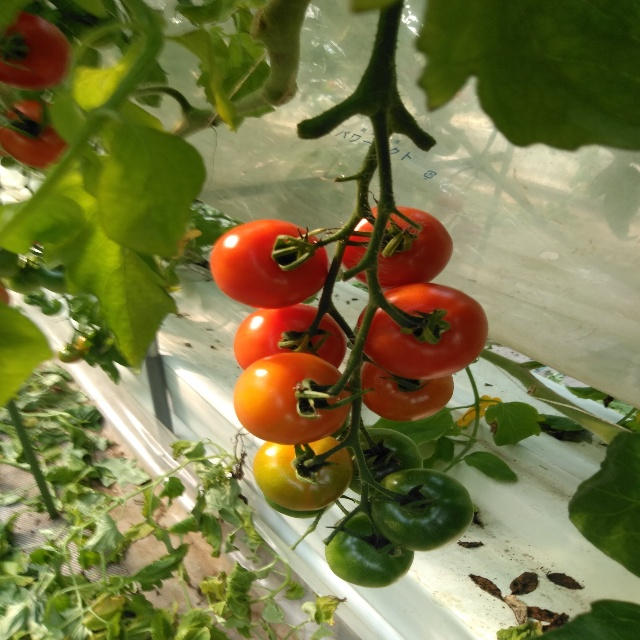l_fully_ripened: (357, 283, 490, 380), (210, 220, 331, 310), (341, 206, 454, 291), (233, 302, 347, 371), (0, 11, 70, 91), (0, 100, 70, 171)
l_green: (367, 468, 474, 551), (325, 509, 414, 588), (340, 428, 424, 498)
l_half_ripened: (233, 352, 354, 446), (252, 435, 354, 511), (357, 357, 455, 422)
